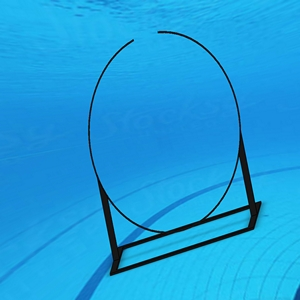circle: (86, 28, 261, 277)
